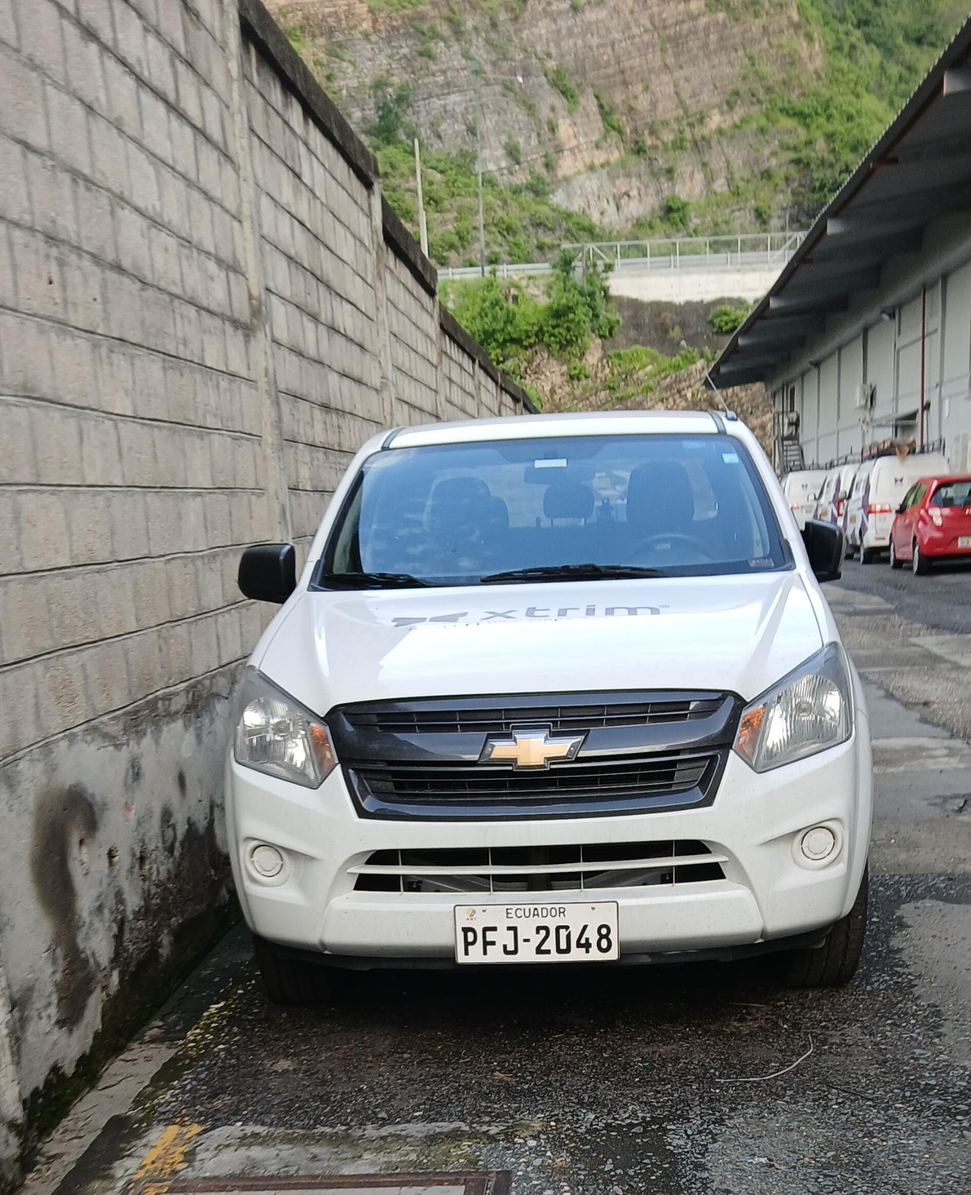license_plate: (454, 901, 621, 964), (956, 535, 971, 547)
